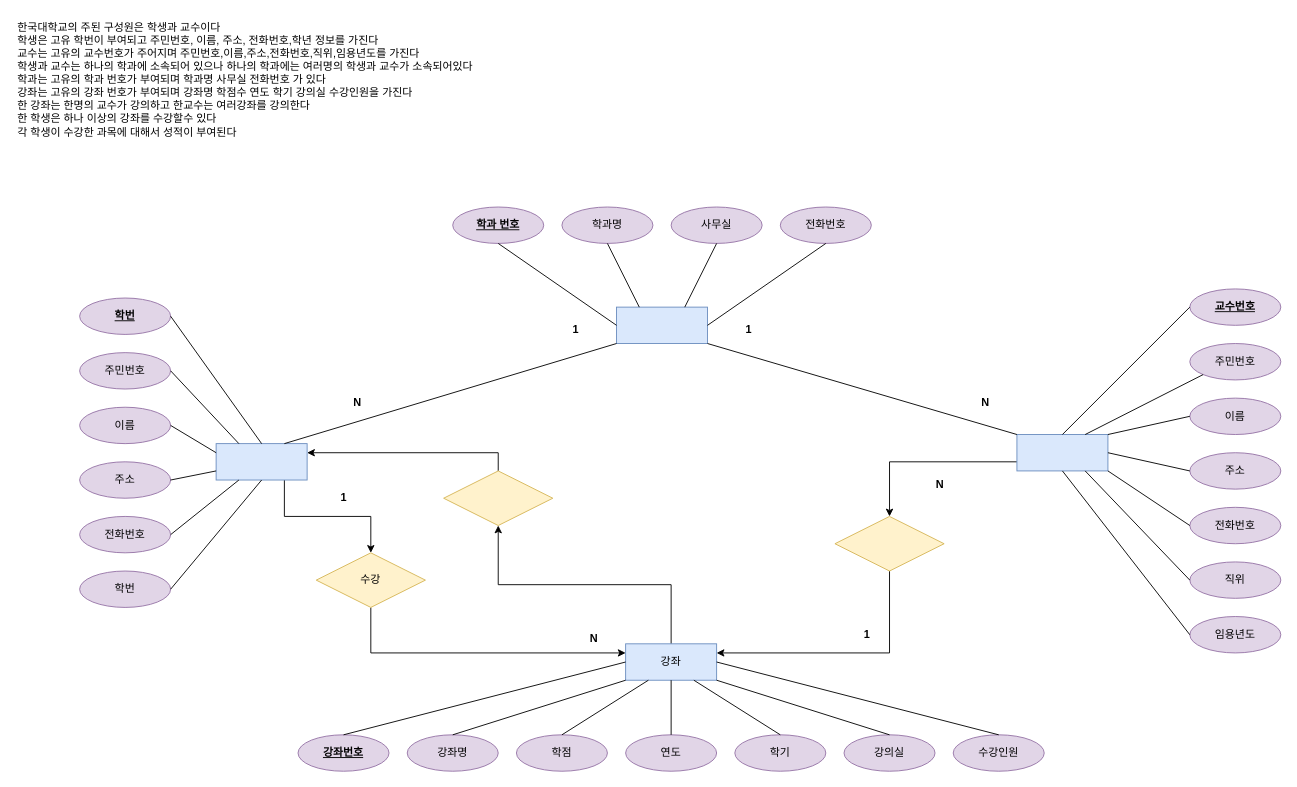
Image size: 1297x787. Some labels were removed from this diagram. The shapes that lost their labels are listed below. From the top down, each one's centre as x and y in pixels, then its label:
pixel 662 325: 학과
pixel 261 461: 학생
pixel 1062 452: 교수
pixel 498 498: 성적
pixel 889 543: 강의
